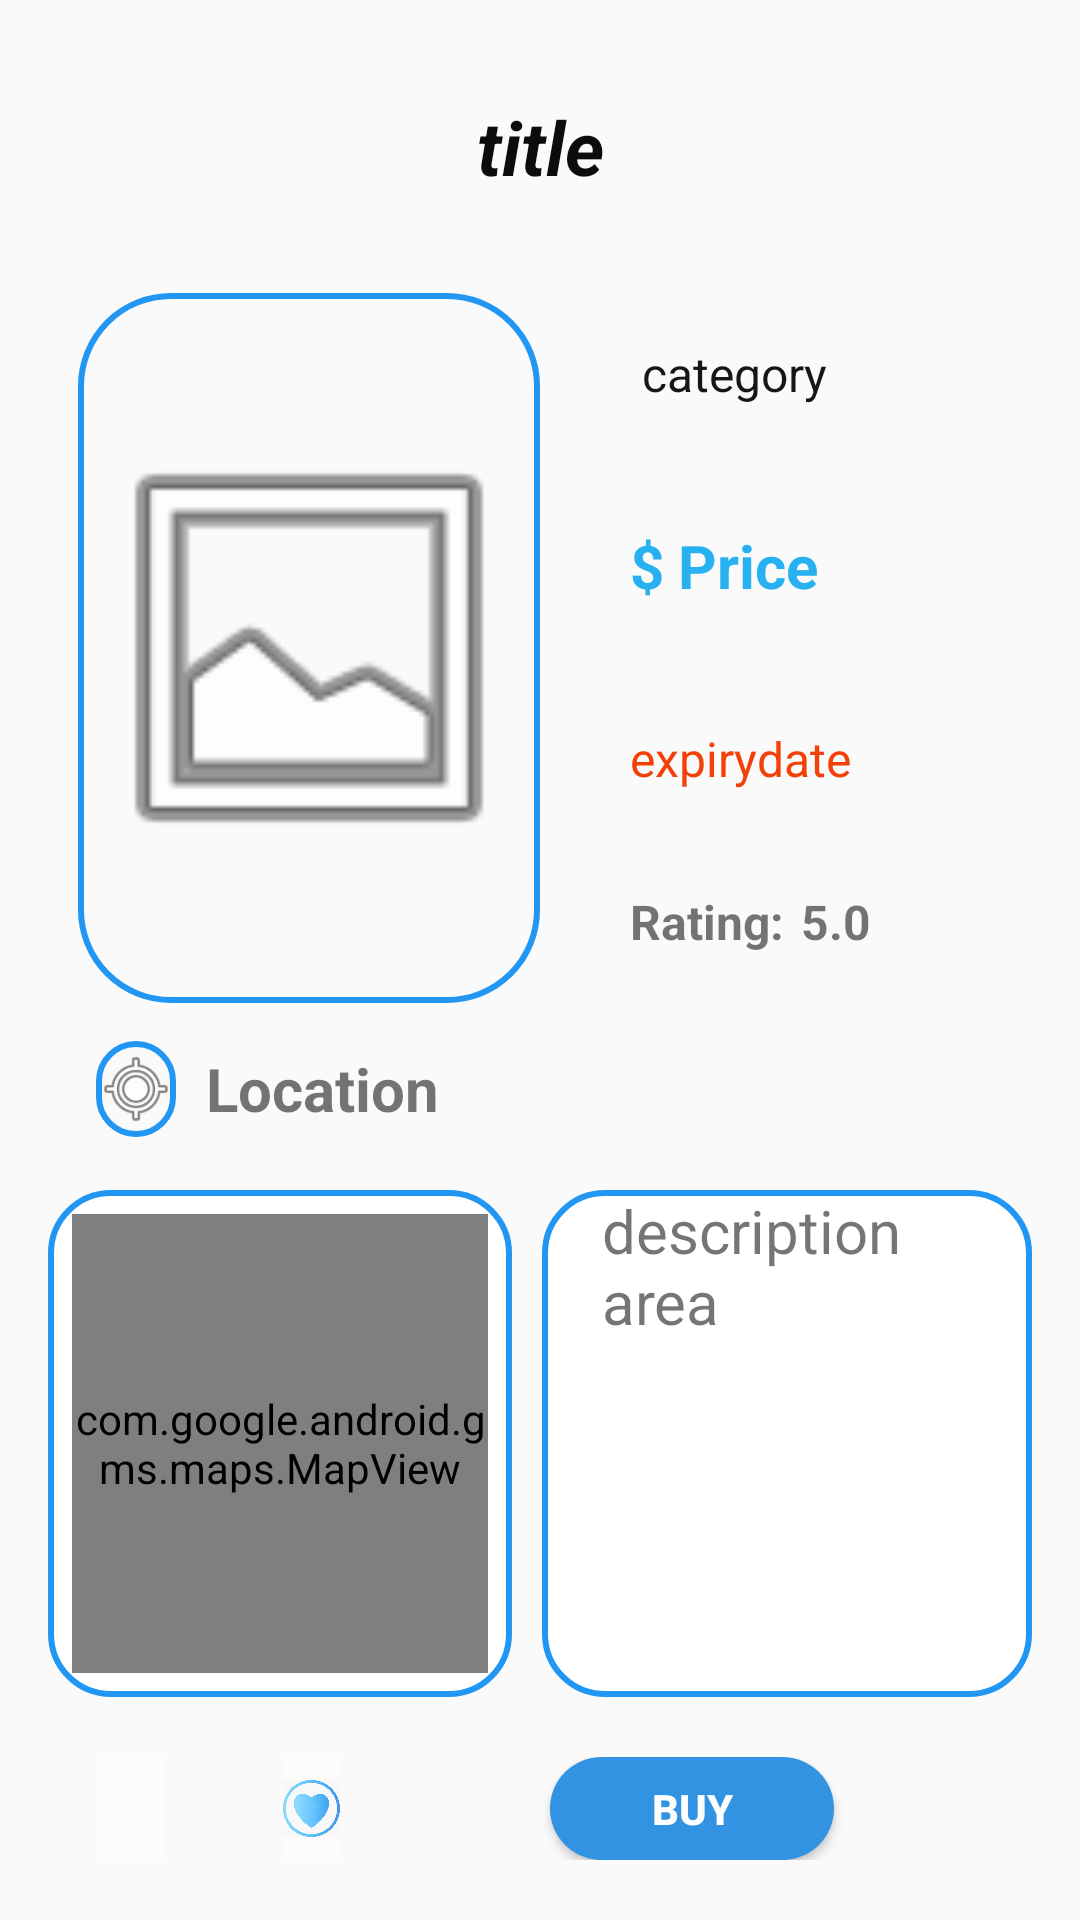

Where to tap for icons on this 1080 × 1920 app screen, as (x,y):
like: (311,1808)
